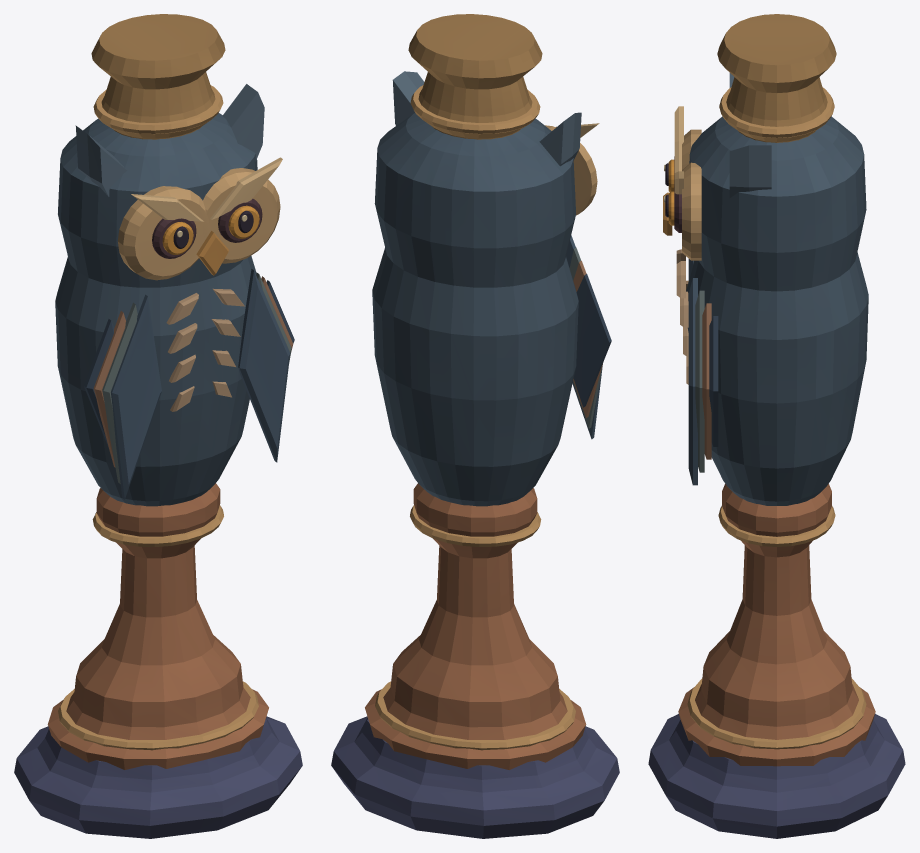
Rendered from workshop-owl-lampstand.glb.
The picture shows the model from 3 angles, left to right: view 1: azimuth 30°, elevation 25°; view 2: azimuth 150°, elevation 25°; view 3: azimuth 270°, elevation 25°; orthographic projection.
Visible parts, largest first — view 1: workshop-owl-lampstand; view 2: workshop-owl-lampstand; view 3: workshop-owl-lampstand.
Part boxes in pixels (bbox=[...]): workshop-owl-lampstand: bbox=[14, 14, 302, 838]; workshop-owl-lampstand: bbox=[331, 14, 619, 838]; workshop-owl-lampstand: bbox=[648, 14, 905, 838].
Bounding box in the file's own units: 1.12 × 3.1 × 0.9744.
